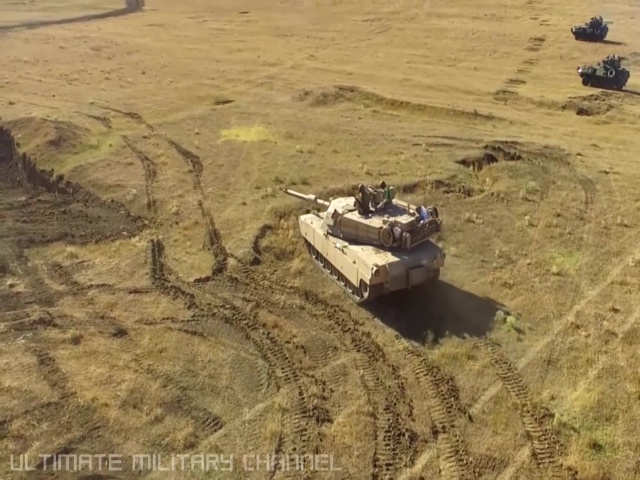vehicle: (295, 185, 447, 301), (578, 58, 631, 91), (571, 17, 610, 43)
